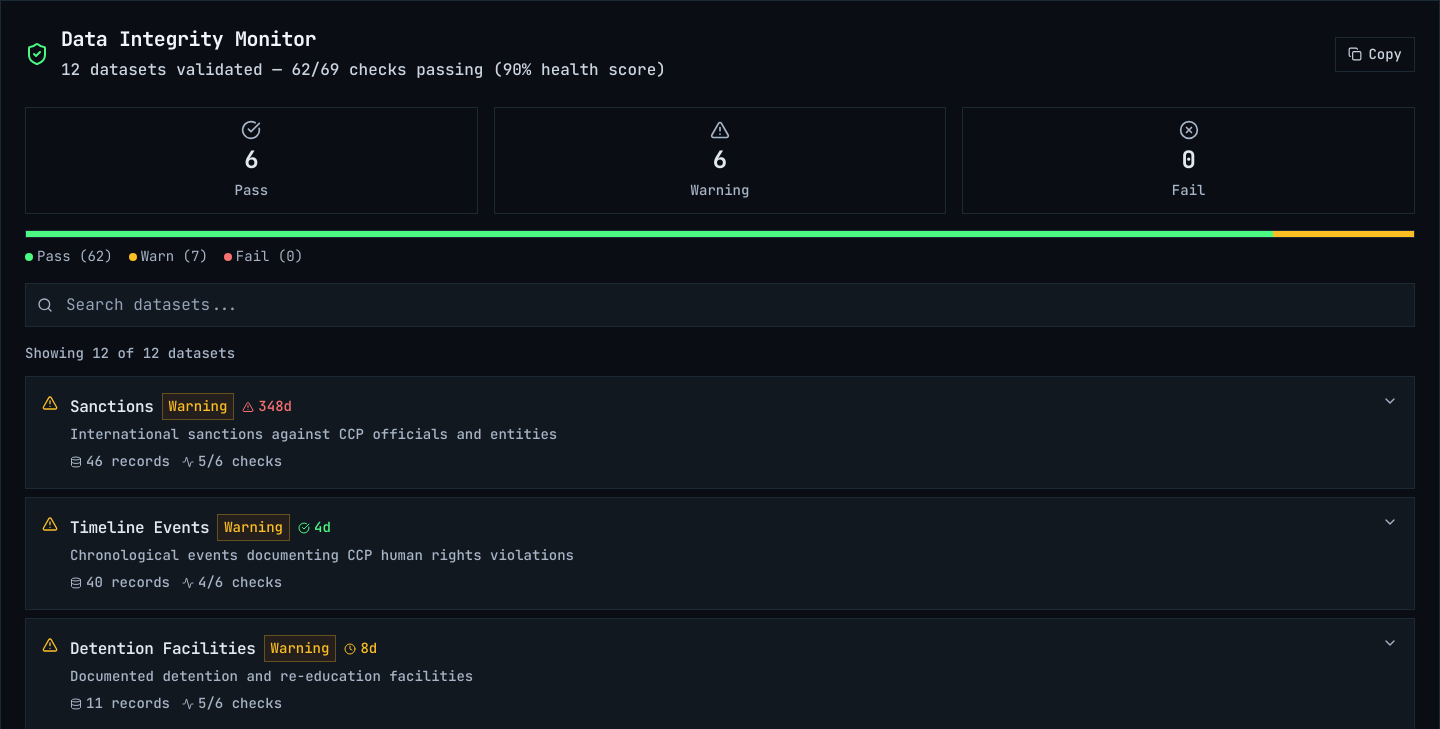
Test: DataIntegrityMonitor › clicking an expanded dataset card collapses it
This screenshot has width=1440, height=729.
Click the button with aria-label "Sanctions: 46 records, Warning status" at (720, 432), box 26,377 -> 1414,488
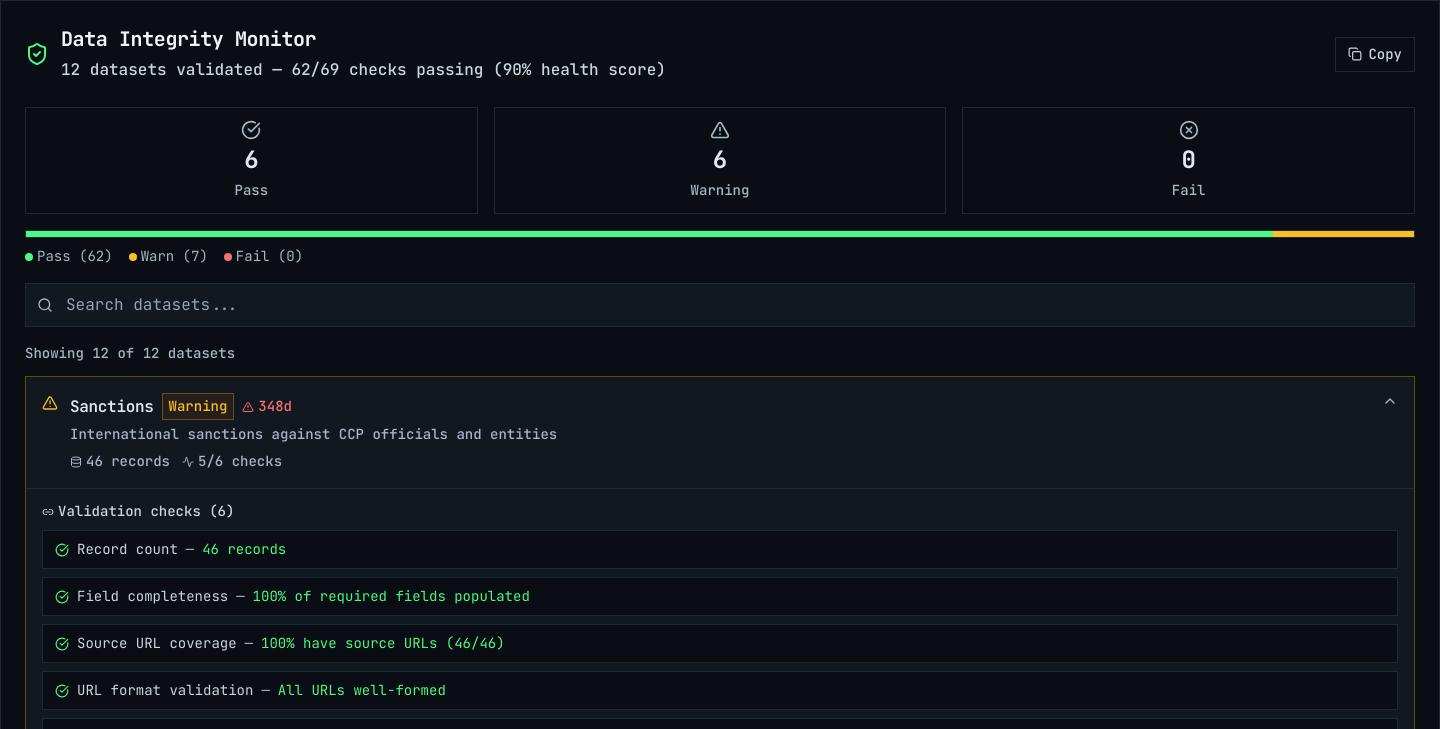
Result: the button with aria-label "Sanctions: 46 records, Warning status" is expanded
Click the button with aria-label "Sanctions: 46 records, Warning status" at (720, 432), box 26,377 -> 1414,488
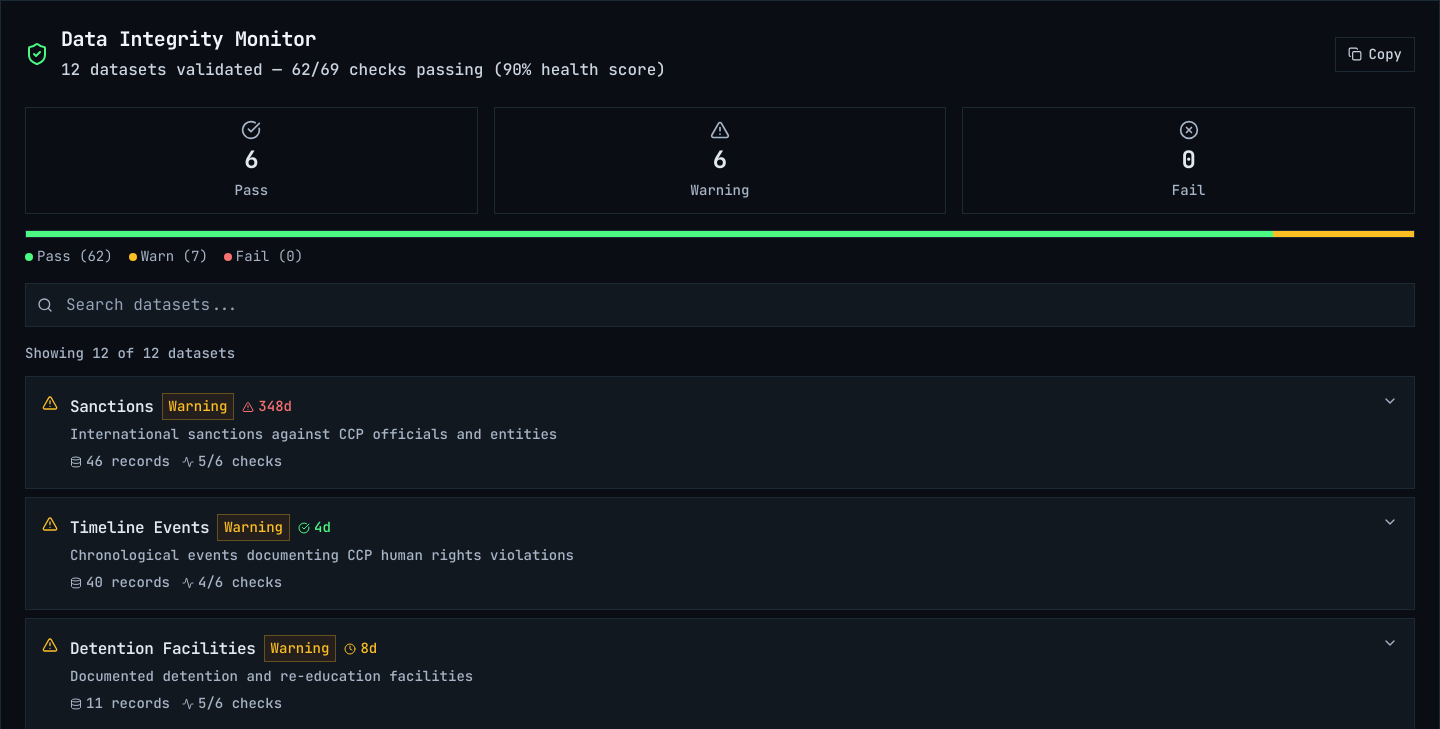
Result: the button with aria-label "Sanctions: 46 records, Warning status" is collapsed at 26,377 -> 1414,488
